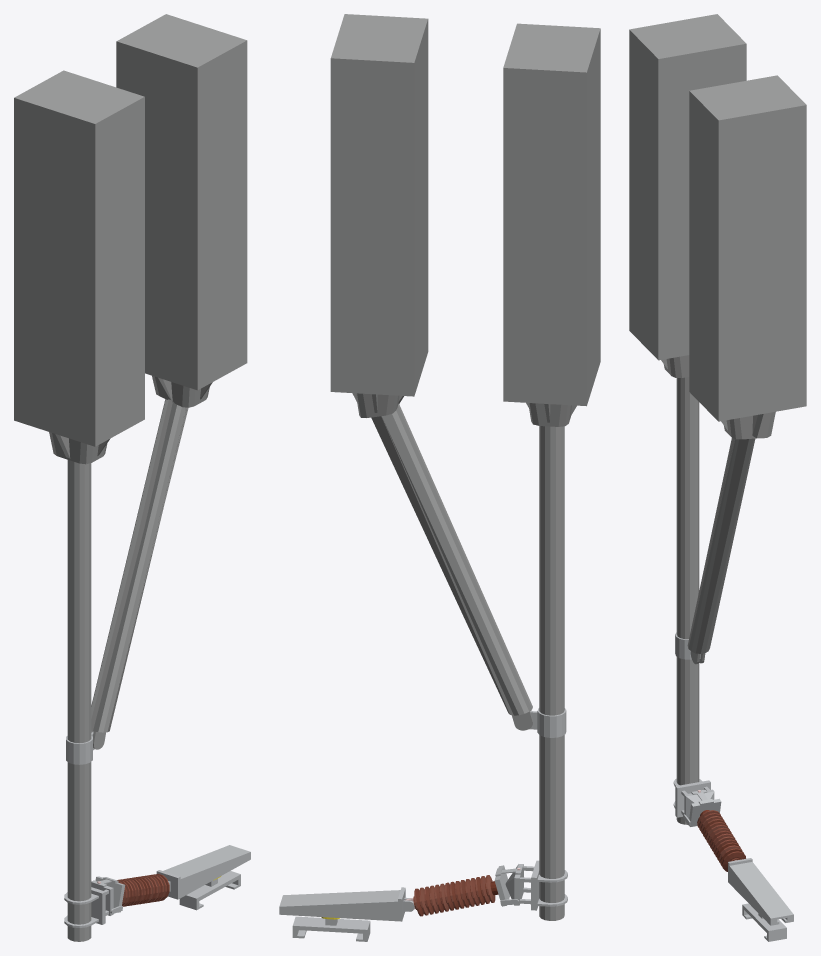
Rendered from catenary_rigid_end_h_l.obj.
The picture shows the model from 3 angles, left to right: view 1: azimuth 30°, elevation 25°; view 2: azimuth 150°, elevation 25°; view 3: azimuth 270°, elevation 25°; orthographic projection. The views are drawn at different scales.
Parts seen in each view (by area): view 1: 1.001; view 2: 1.001; view 3: 1.001.
Boxes of the visible parts, bbox=[...] form: 1.001: bbox=[14, 14, 250, 941]; 1.001: bbox=[279, 14, 600, 941]; 1.001: bbox=[629, 14, 806, 941].
Bounding box in the file's own units: 0.8927 × 2.8 × 0.5537.
1 material, 1 textured.
